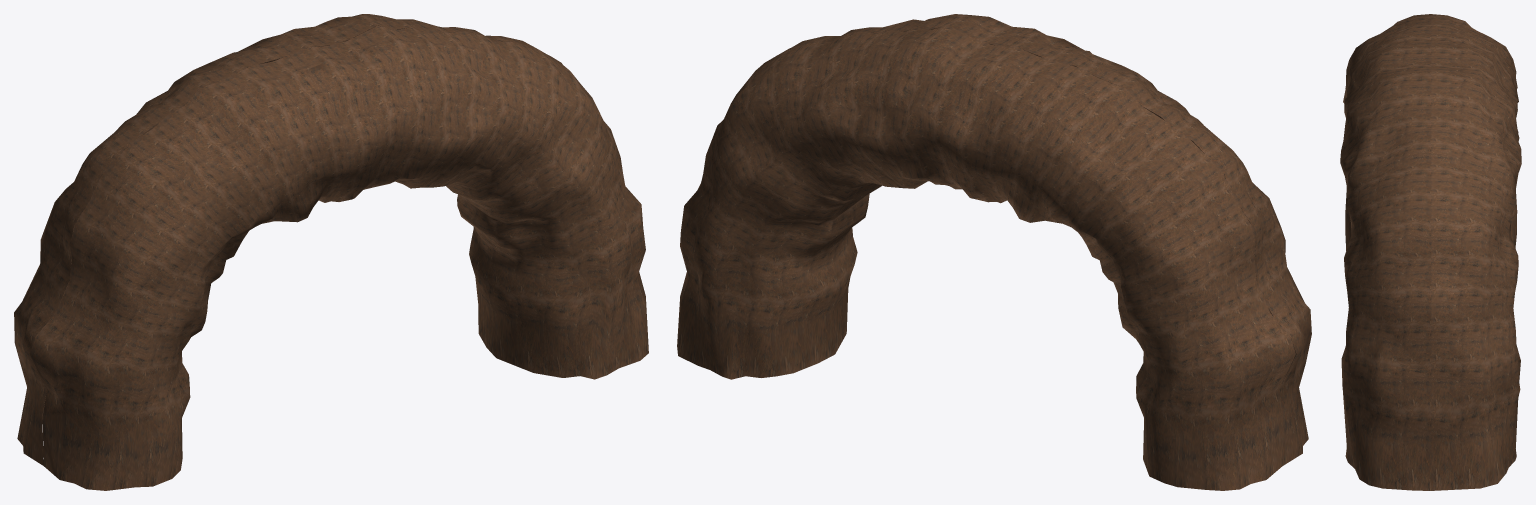
File: ArchCore_LOD1.fbx
3 views of the same model, side by side, from view 1: azimuth 30°, elevation 25°; view 2: azimuth 150°, elevation 25°; view 3: azimuth 270°, elevation 25° (orthographic). The views are drawn at different scales.
Visible parts, largest first — view 1: ArchCore.002; view 2: ArchCore.002; view 3: ArchCore.002.
Boxes of the visible parts, x1,y1,x2,y2 form: ArchCore.002: (14, 14, 648, 490); ArchCore.002: (677, 14, 1311, 490); ArchCore.002: (1340, 14, 1521, 490).
Bounding box in the file's own units: 78.43 × 23.74 × 45.13.
